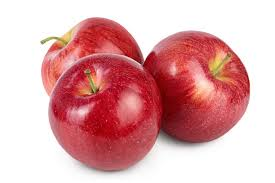apple: (47, 54, 163, 172)
